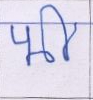i_matra: (46, 5, 75, 61)
